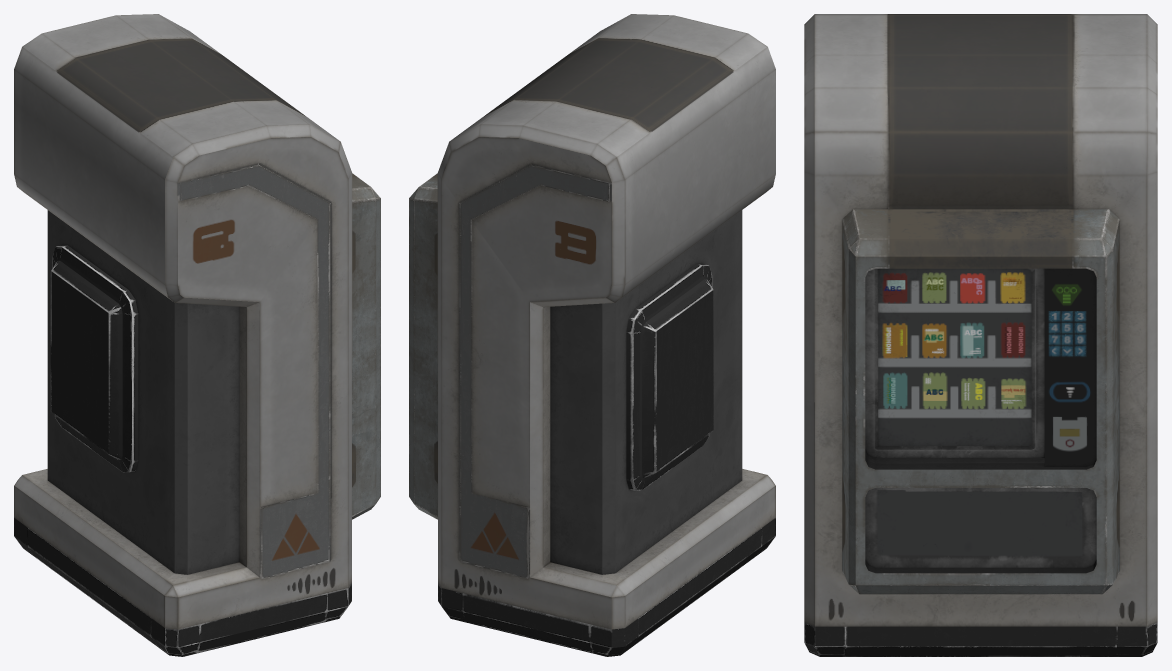
The model's file is VendingMachine (1).fbx.
3 renders of one model, left to right at view 1: azimuth 30°, elevation 25°; view 2: azimuth 150°, elevation 25°; view 3: azimuth 270°, elevation 25°, orthographic. The views are drawn at different scales.
Parts seen in each view (by area): view 1: VendingMachine_low; view 2: VendingMachine_low; view 3: VendingMachine_low.
Part boxes in pixels (x1,y1,x2,y2): VendingMachine_low: (14,14,380,656); VendingMachine_low: (409,14,775,656); VendingMachine_low: (804,14,1157,656).
Bounding box in the file's own units: 116 × 241 × 138.
6 materials, 6 textured.
